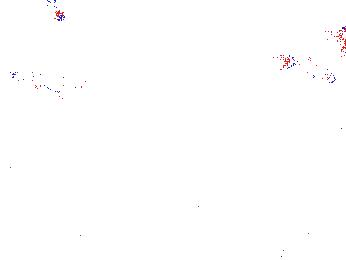red belly glassfish: (48, 1, 67, 22)
redtail glassfish: (278, 49, 337, 85), (9, 63, 68, 91), (33, 72, 87, 97)
siberian prawn: (26, 211, 101, 241)
